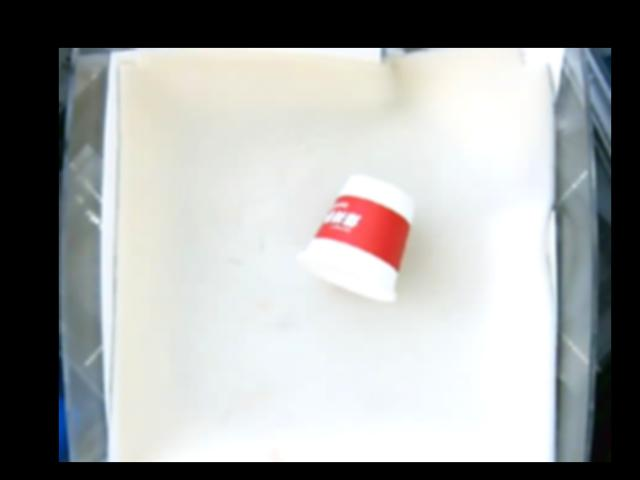Cup: (300, 173, 412, 302)
